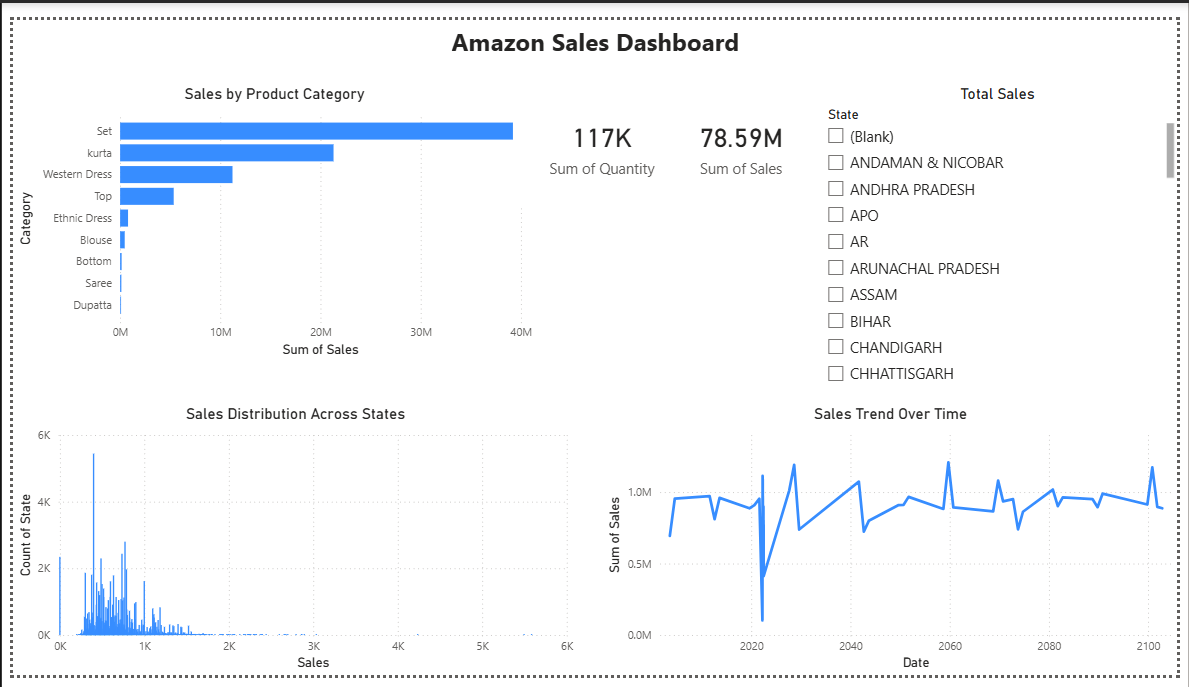

What the dashboard file says about the page in this screenshot:
{"tool":"powerbi","page":{"name":"Page 1","canvas":[1280,720],"ordinal":0},"visuals":[{"type":"barChart","title":"Sales by Product Category","fields":{"Category":["Amazon Sale Report.Category"],"Y":["Sum(Amazon Sale Report.Sales)"]},"box":[0,71.2,575,303.8],"z":0},{"type":"lineChart","title":"Sales Trend Over Time","fields":{"Y":["Sum(Amazon Sale Report.Sales)"],"Category":["Amazon Sale Report. Date"]},"box":[648.1,423.1,632.7,296.2],"z":1000},{"type":"card","fields":{"Values":["Sum(Amazon Sale Report.Sales)"]},"box":[717.3,71.2,165.4,134.6],"z":2000},{"type":"card","fields":{"Values":["Sum(Amazon Sale Report.Quantity)"]},"box":[554.8,71.2,182.7,134.6],"z":3000},{"type":"clusteredColumnChart","title":"Sales Distribution Across States","fields":{"Y":["CountNonNull(Amazon Sale Report.State)"],"Category":["Amazon Sale Report.Sales"]},"box":[0,423.1,621.2,296.2],"z":4000},{"type":"slicer","title":"Total Sales","fields":{"Values":["Amazon Sale Report.State"]},"box":[882.7,71.2,398.1,338.5],"z":4001},{"type":"textbox","box":[476.9,0,342.3,53.8],"z":4002}]}

Visuals, with their boxes in screenshot pixels (x1, y1, x2, y2), scaled from the page's 1280x720 canvas onto the 1189x687 screenshot:
"Sales by Product Category" barChart: bbox=[0, 68, 534, 358]
"Sales Trend Over Time" lineChart: bbox=[602, 404, 1188, 686]
card - Sum(Amazon Sale Report.Sales): bbox=[666, 68, 820, 196]
card - Sum(Amazon Sale Report.Quantity): bbox=[515, 68, 685, 196]
"Sales Distribution Across States" clusteredColumnChart: bbox=[0, 404, 577, 686]
"Total Sales" slicer: bbox=[820, 68, 1188, 391]
textbox: bbox=[443, 0, 761, 51]
